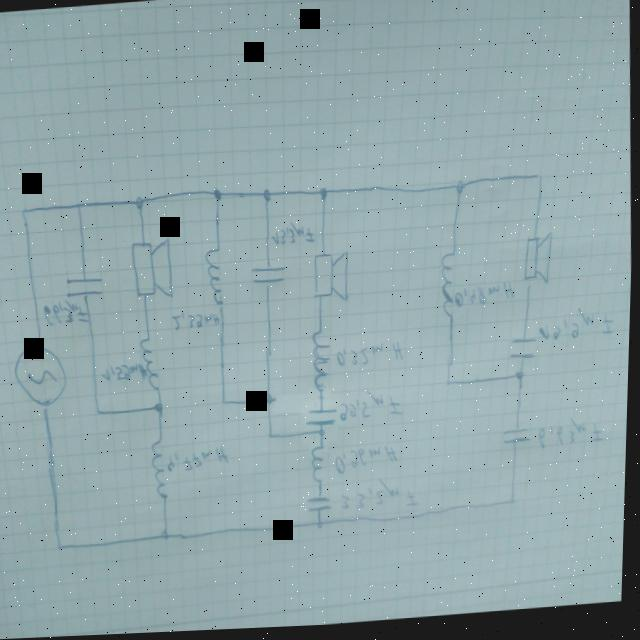capacitor: (250, 264, 288, 291), (65, 274, 106, 299), (507, 339, 541, 365), (306, 408, 341, 430), (503, 430, 534, 450), (307, 495, 336, 515)
inductor: (310, 324, 335, 399), (150, 432, 173, 506), (203, 243, 227, 313), (438, 253, 459, 327), (138, 335, 162, 394), (310, 441, 329, 489)
junction: (262, 388, 280, 412), (315, 183, 332, 206), (259, 184, 275, 208), (210, 185, 227, 207), (131, 191, 147, 212), (71, 196, 85, 216), (452, 182, 467, 200), (18, 201, 31, 221), (514, 370, 528, 388), (314, 518, 329, 533), (532, 173, 546, 189), (153, 399, 166, 416), (266, 429, 279, 444), (161, 528, 174, 542), (508, 498, 520, 513), (219, 394, 231, 408), (58, 538, 68, 553), (444, 378, 454, 393), (317, 428, 327, 441), (94, 406, 104, 417)
source: (12, 342, 70, 410)
text: (342, 477, 422, 517), (538, 307, 616, 347), (538, 418, 606, 456), (339, 390, 405, 425), (335, 447, 400, 478), (336, 342, 406, 370), (167, 446, 231, 474), (453, 283, 515, 311), (42, 297, 90, 328), (101, 361, 150, 387), (270, 221, 316, 248), (172, 311, 221, 333)
